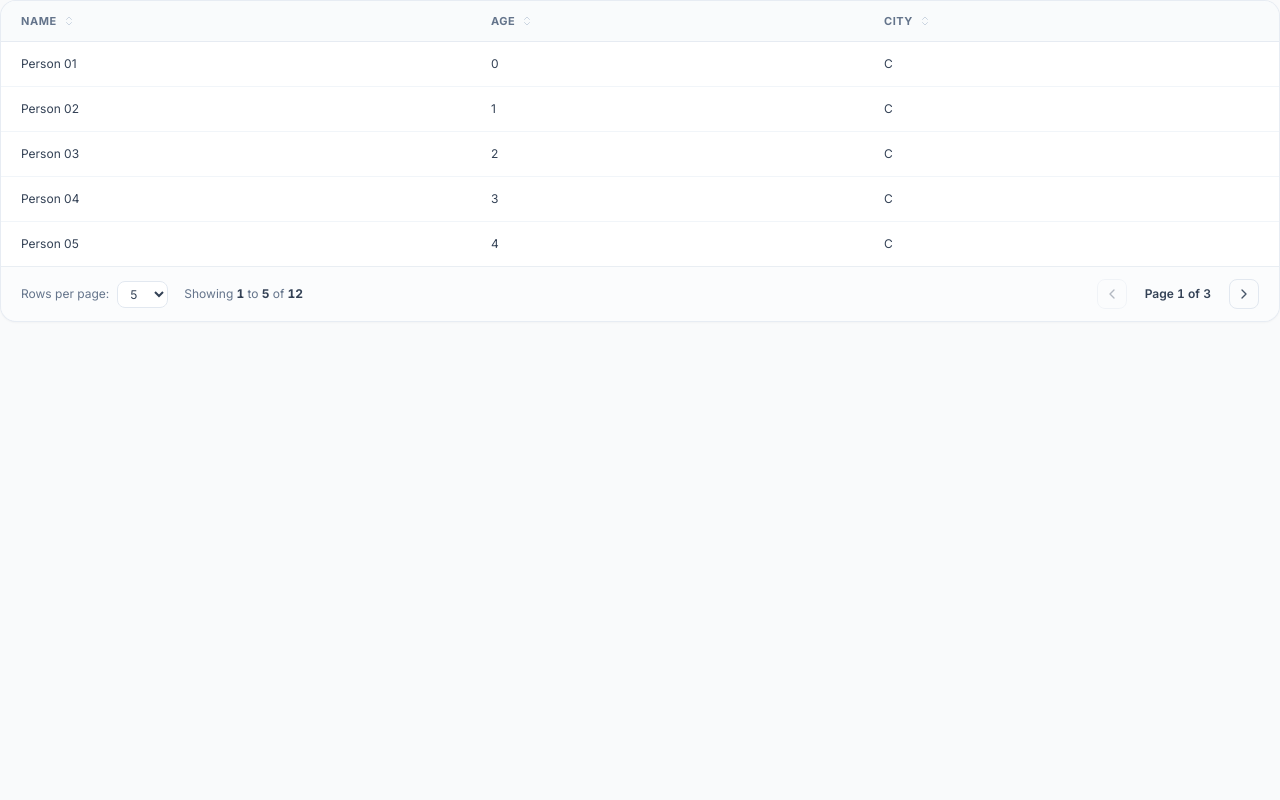
Test: DataTable › paginates, and changing the page size resets to page 1
Expected: the text "Page 1 of 3" is shown, top-left (1145, 286), bottom-right (1211, 301)
Expected: the button titled "Previous Page" is disabled, top-left (1097, 279), bottom-right (1127, 309)
Step 1. Click the button titled "Next Page" → (1244, 294), box top-left (1229, 279), bottom-right (1259, 309)
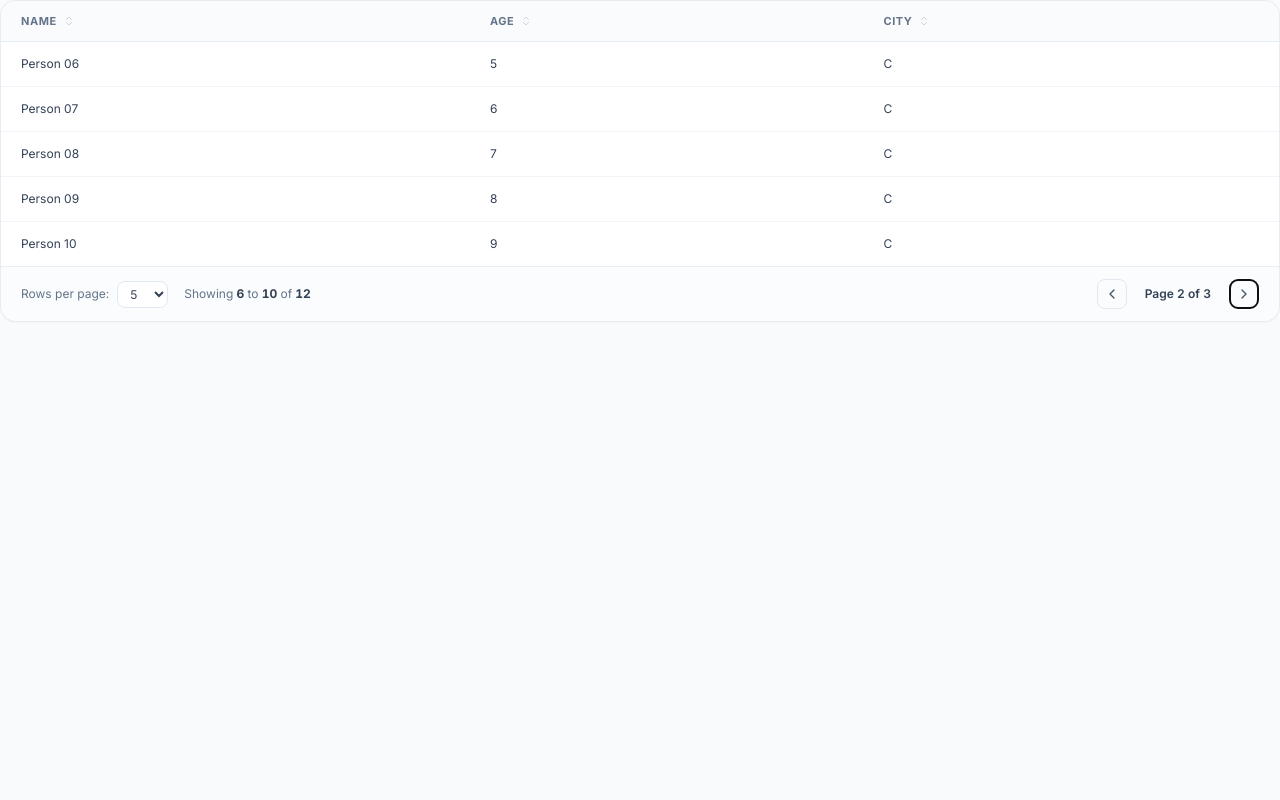
Now the text "Page 2 of 3" is shown, box top-left (1145, 286), bottom-right (1211, 301)
Now the cell "Person 06" is shown, box top-left (1, 42), bottom-right (470, 86)
Step 2. Click the button titled "Next Page" → (1244, 294), box top-left (1229, 279), bottom-right (1259, 309)
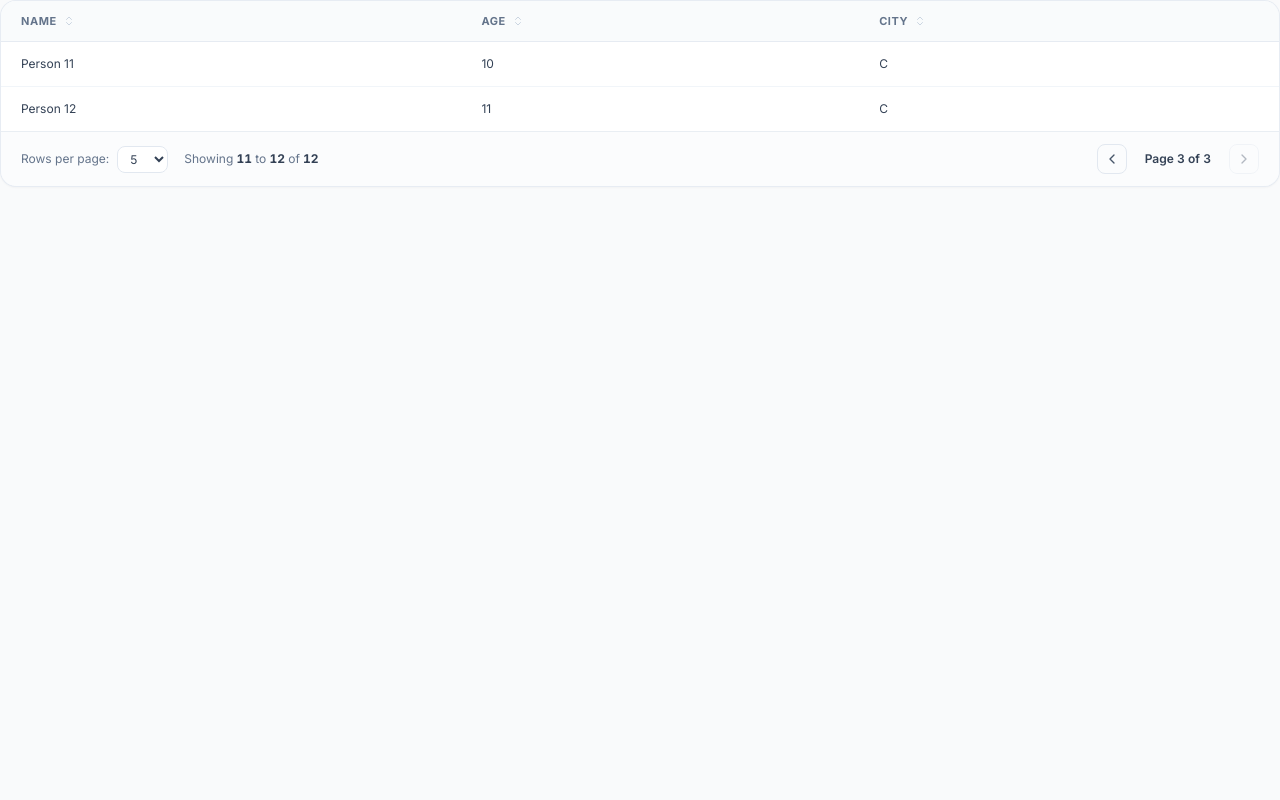
Expected: the button titled "Next Page" is disabled, top-left (1229, 144), bottom-right (1259, 174)
Step 3. Select "10" in the dropdown named "Rows per page" → (143, 159), box top-left (117, 146), bottom-right (168, 172)
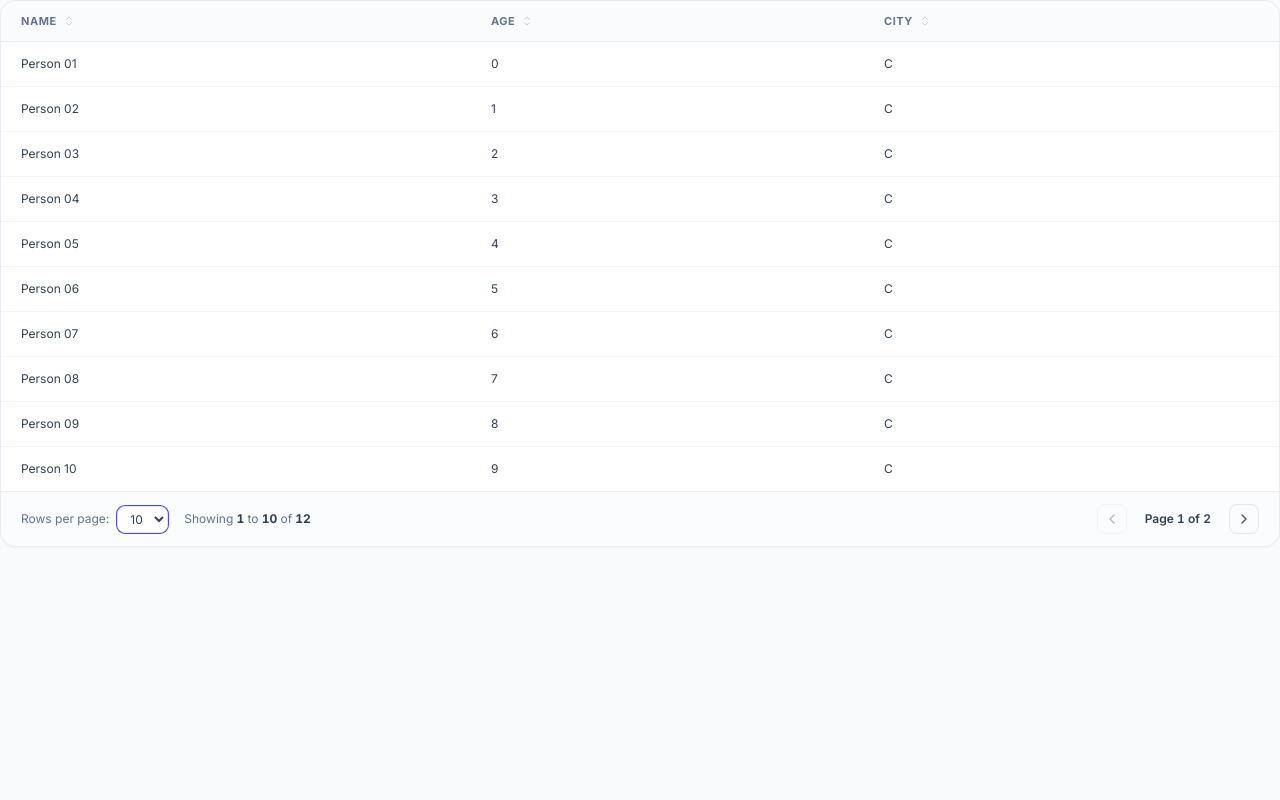
Now the text "Page 1 of 2" is shown, box top-left (1145, 511), bottom-right (1211, 526)
